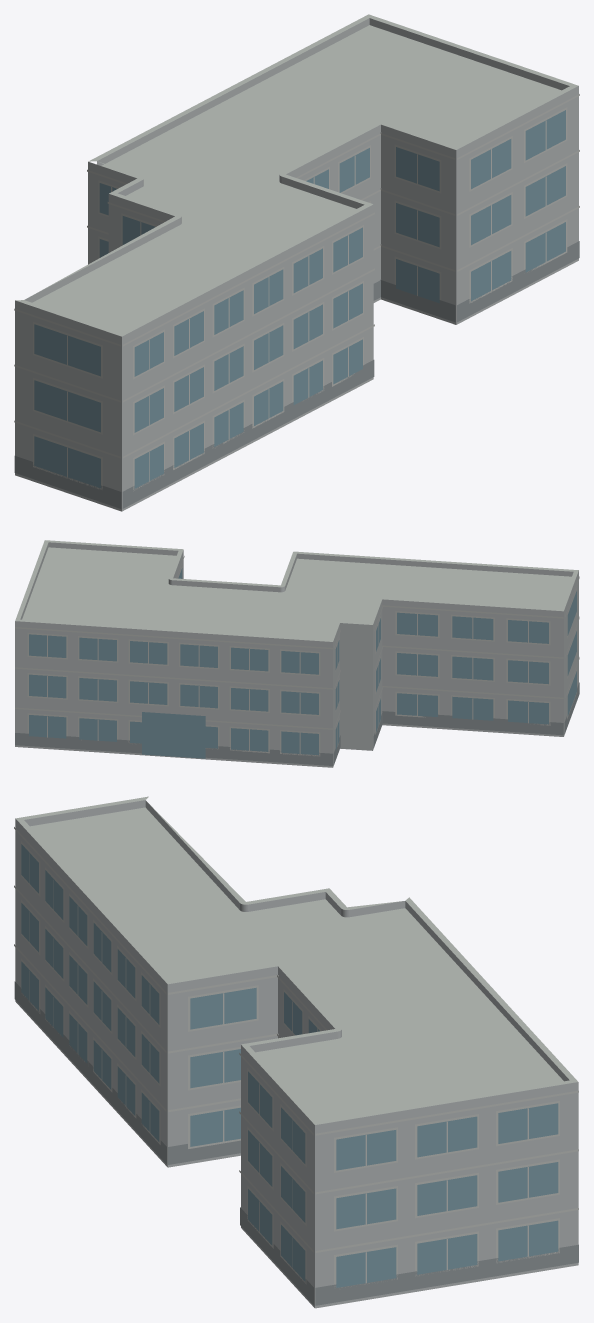
Rendered from public-4ceeddde-c74c-42b8-b71d-297e484a2447.glb.
The picture shows the model from 3 angles, top to bottom: view 1: azimuth 30°, elevation 25°; view 2: azimuth 150°, elevation 25°; view 3: azimuth 270°, elevation 25°; orthographic projection. The views are drawn at different scales.
Parts seen in each view (by area): view 1: public-4ceeddde-c74c-42b8-b71d-297e484a2447; view 2: public-4ceeddde-c74c-42b8-b71d-297e484a2447; view 3: public-4ceeddde-c74c-42b8-b71d-297e484a2447.
Part boxes in pixels (x1=…): public-4ceeddde-c74c-42b8-b71d-297e484a2447: x1=14, y1=14, x2=579, y2=511; public-4ceeddde-c74c-42b8-b71d-297e484a2447: x1=15, y1=540, x2=579, y2=767; public-4ceeddde-c74c-42b8-b71d-297e484a2447: x1=14, y1=796, x2=578, y2=1308.
Size of the model in its own units: 35.31 by 9.15 by 25.6.
